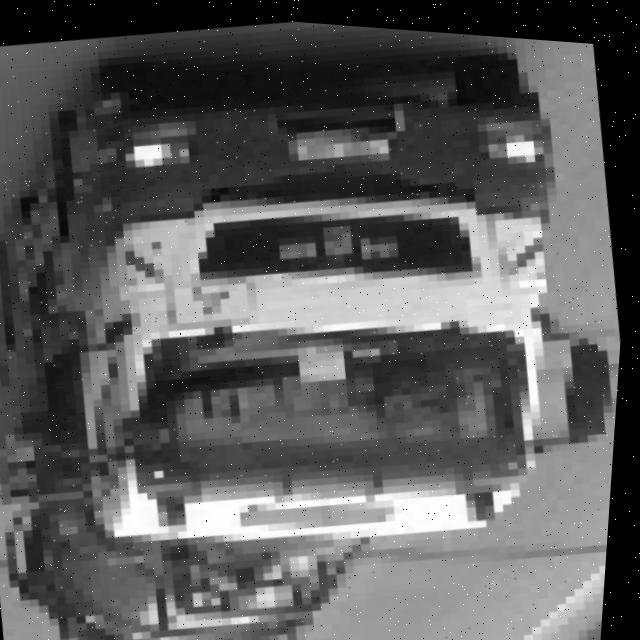truck: (8, 11, 631, 627)
